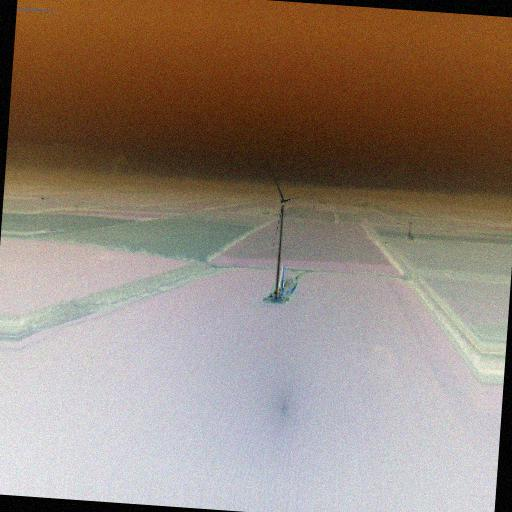wind turbine: (261, 162, 310, 306)
